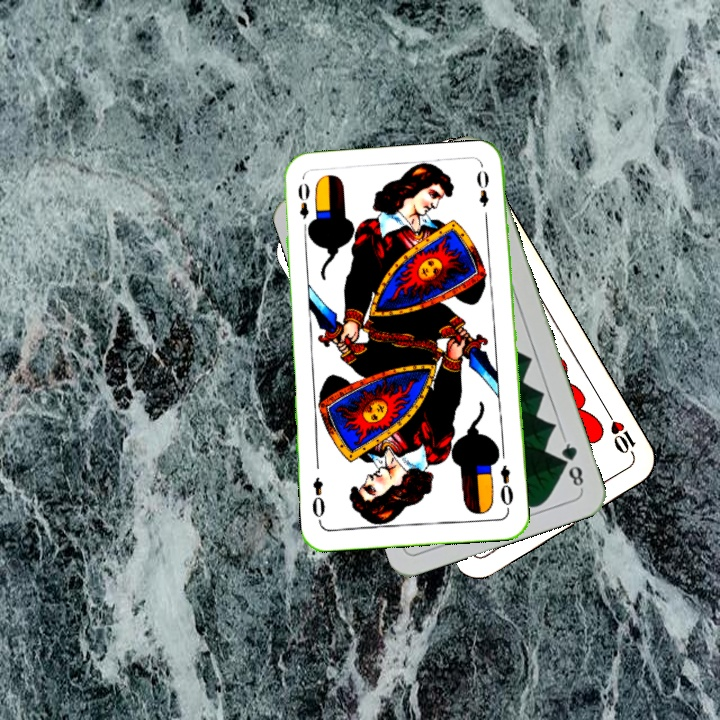EO: (293, 178, 315, 236), (496, 461, 516, 513)
G8: (557, 434, 587, 492)
H10: (602, 407, 638, 461)
